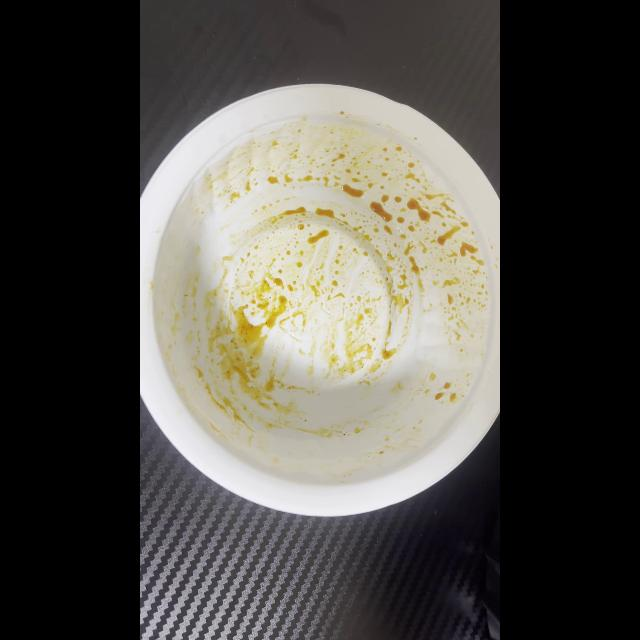dirty: (144, 136, 501, 462)
